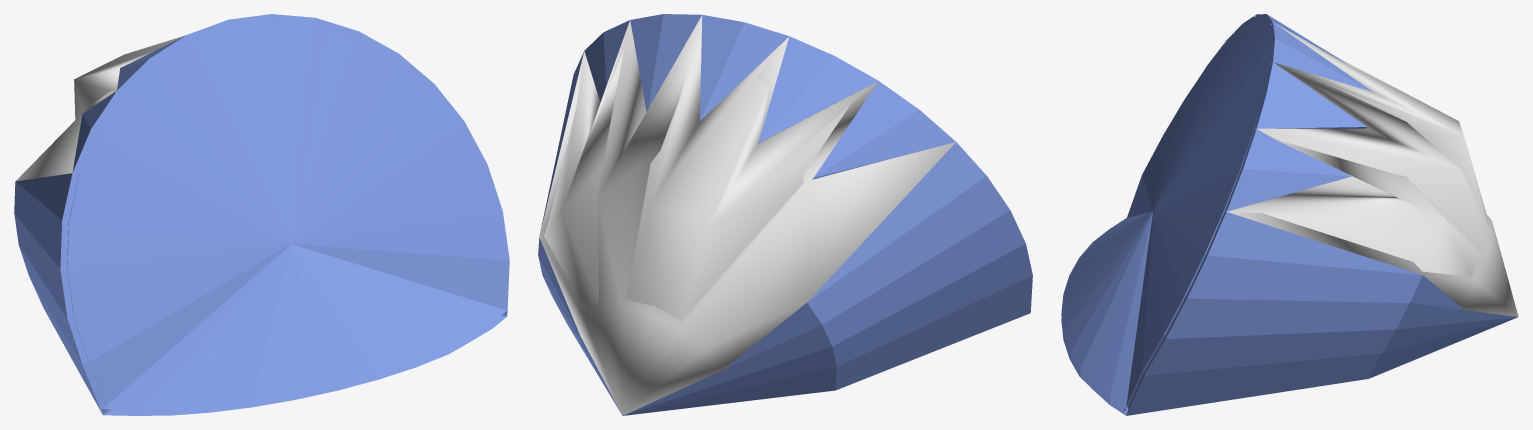
The model's file is Cockpit7.fbx.
3 renders of one model, left to right at view 1: azimuth 30°, elevation 25°; view 2: azimuth 150°, elevation 25°; view 3: azimuth 270°, elevation 25°, orthographic. The views are drawn at different scales.
Parts seen in each view (by area): view 1: Cone, Cone.001; view 2: Cone.001, Cone; view 3: Cone, Cone.001.
Part boxes in pixels (<box>): Cone: <box>14,14,509,415</box>; Cone.001: <box>16,15,434,181</box>; Cone.001: <box>539,15,955,415</box>; Cone: <box>538,14,1032,415</box>; Cone: <box>1061,14,1517,415</box>; Cone.001: <box>1224,15,1518,316</box>.
Size of the model in its own units: 7111 by 4530 by 6656.
